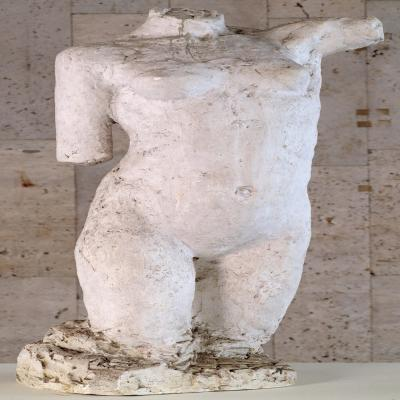sculpture: (53, 12, 386, 395)
